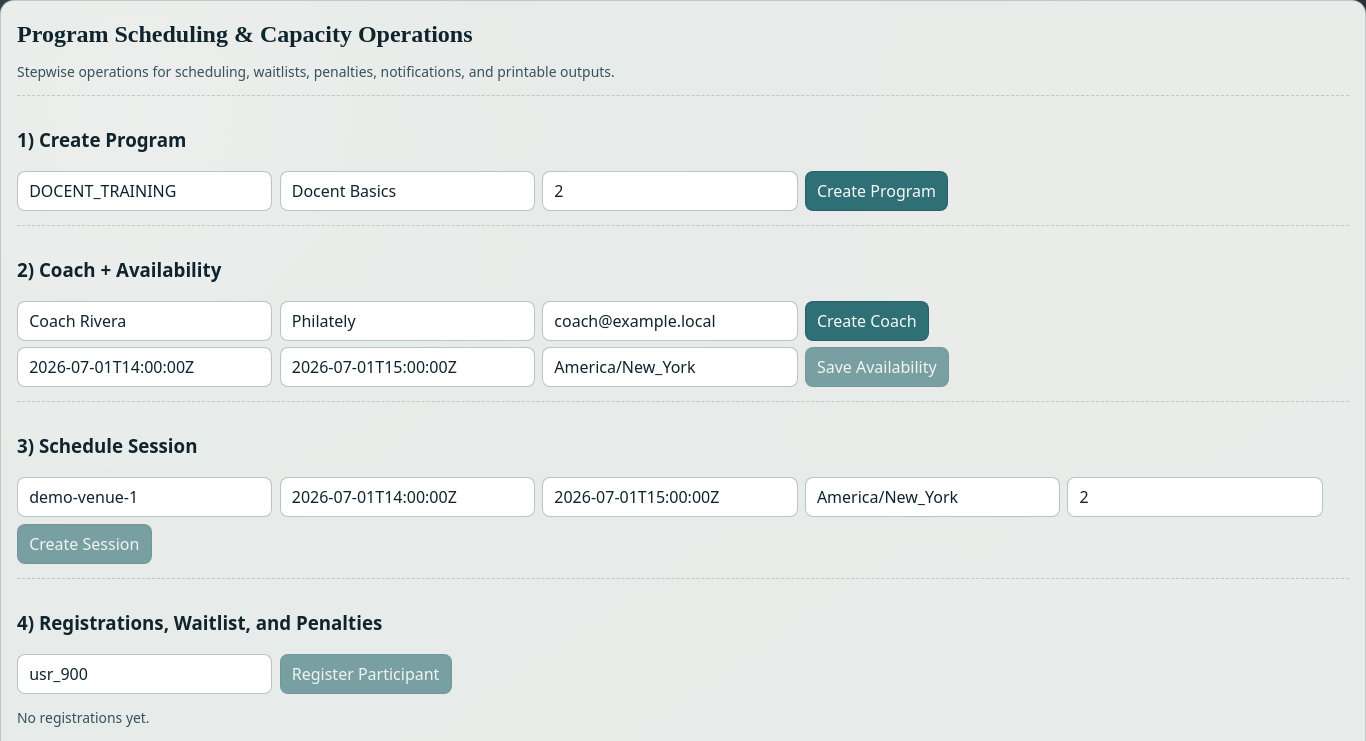
Test: Offline queued-write UX messaging › ProgramsTab shows committed success when response has real data
Click the button "Create Program".
click(876, 191)  # box [805,171,948,211]
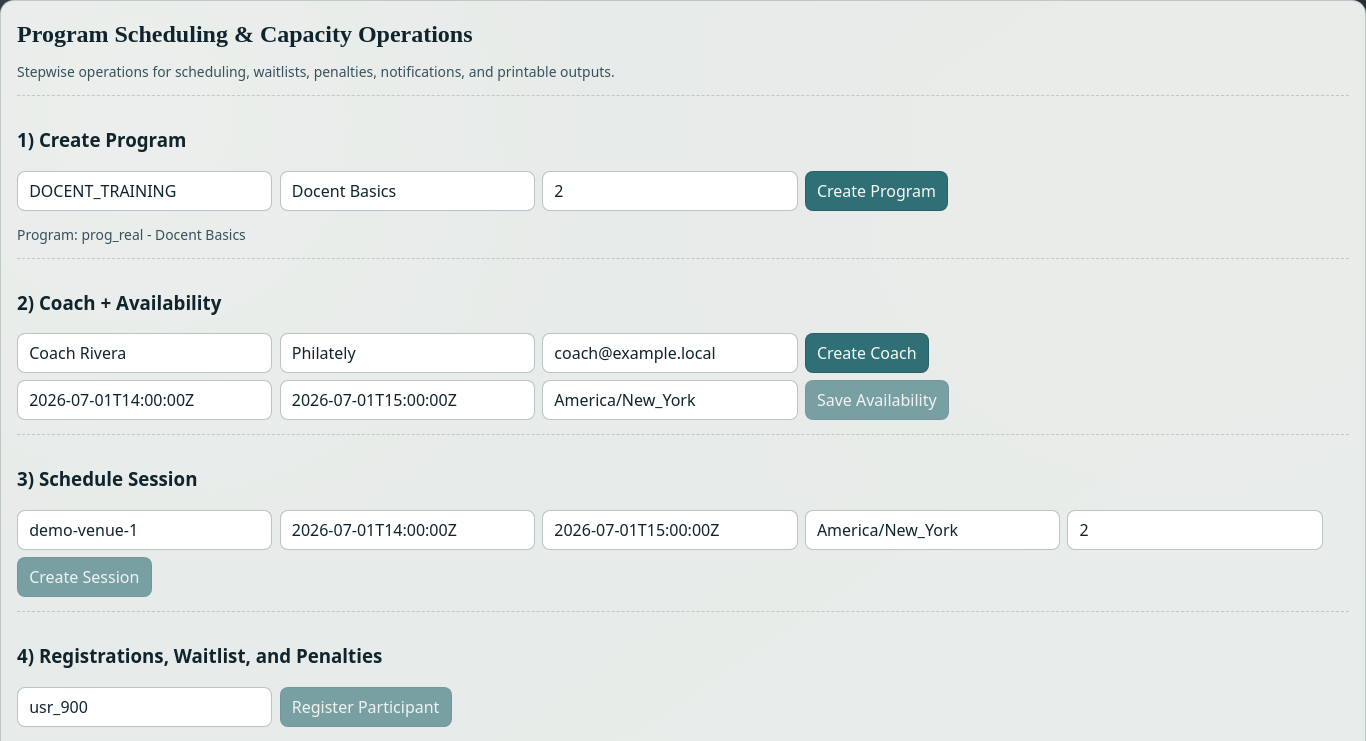
Now the text "Program: prog_real - Docent Basics" is shown, box [17,225,246,244]
